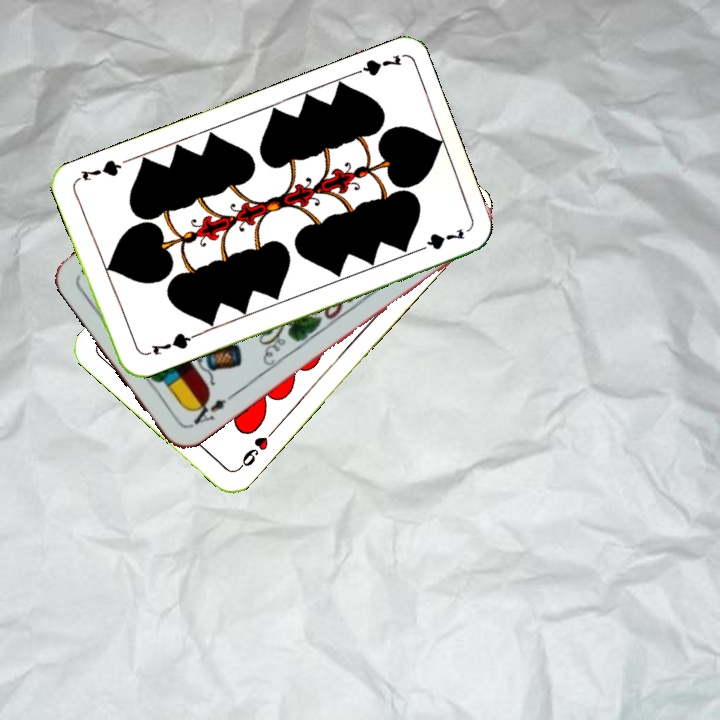EA: (185, 390, 237, 431)
G7: (345, 50, 404, 80), (140, 328, 197, 359)
H9: (234, 425, 278, 473)
